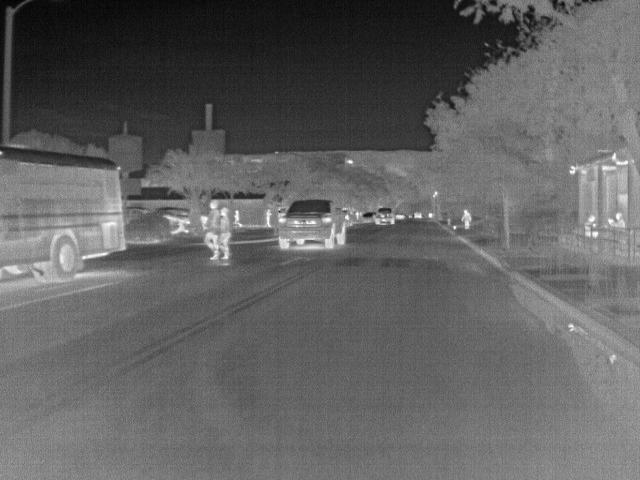car: (276, 198, 347, 250), (373, 206, 396, 227), (361, 211, 377, 224)
person: (205, 198, 223, 260), (217, 208, 233, 260), (584, 215, 602, 236), (460, 208, 474, 230), (606, 212, 628, 226), (230, 207, 244, 229), (262, 207, 272, 228)
